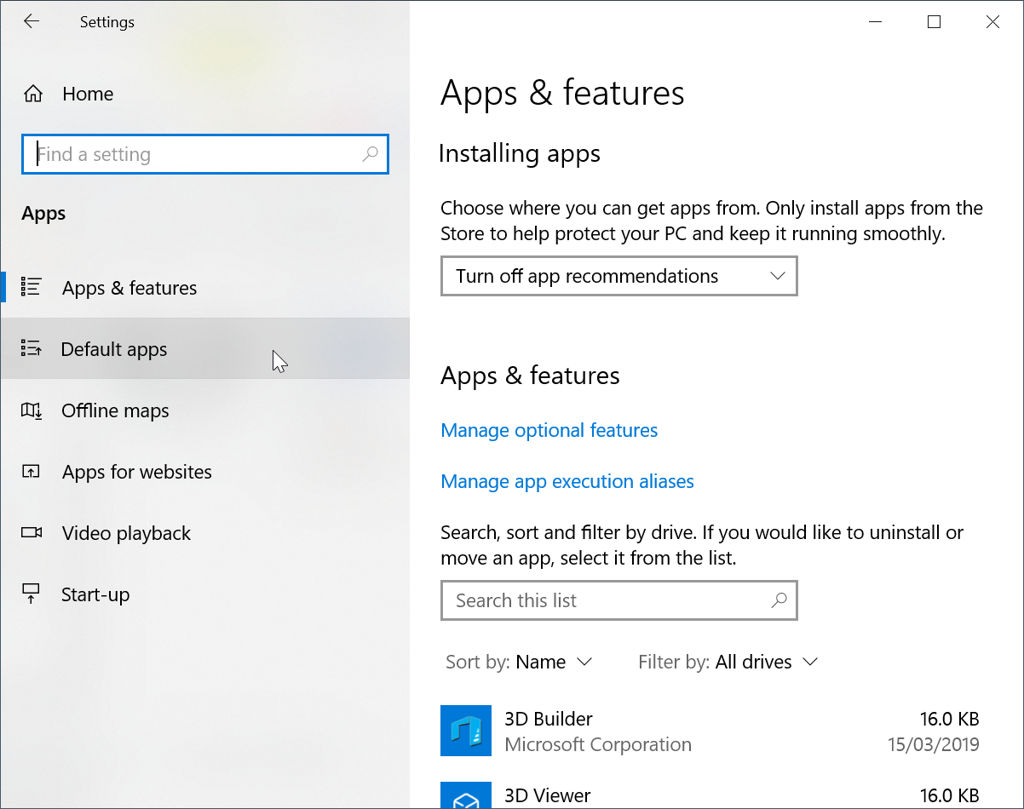button: (437, 704, 982, 758), (1, 319, 408, 378), (441, 254, 799, 297), (437, 779, 980, 807), (437, 469, 700, 495), (17, 456, 217, 488), (437, 416, 659, 444), (16, 516, 196, 550), (17, 272, 198, 305), (16, 393, 174, 429), (16, 579, 143, 613), (21, 76, 127, 110), (712, 649, 822, 673), (512, 651, 593, 674), (17, 6, 42, 35), (860, 9, 888, 29), (920, 10, 948, 30), (978, 10, 1006, 30)
common: (437, 197, 986, 247), (437, 521, 967, 571), (637, 649, 713, 673), (443, 651, 512, 675)
container: (408, 42, 1024, 809), (1, 42, 407, 809), (1, 192, 409, 809), (1, 42, 407, 191), (1, 1, 1024, 43)
header: (438, 70, 689, 115), (437, 360, 622, 391), (437, 137, 602, 168), (74, 11, 137, 35), (20, 201, 69, 225)
text-input: (437, 577, 800, 622), (20, 131, 390, 174)
